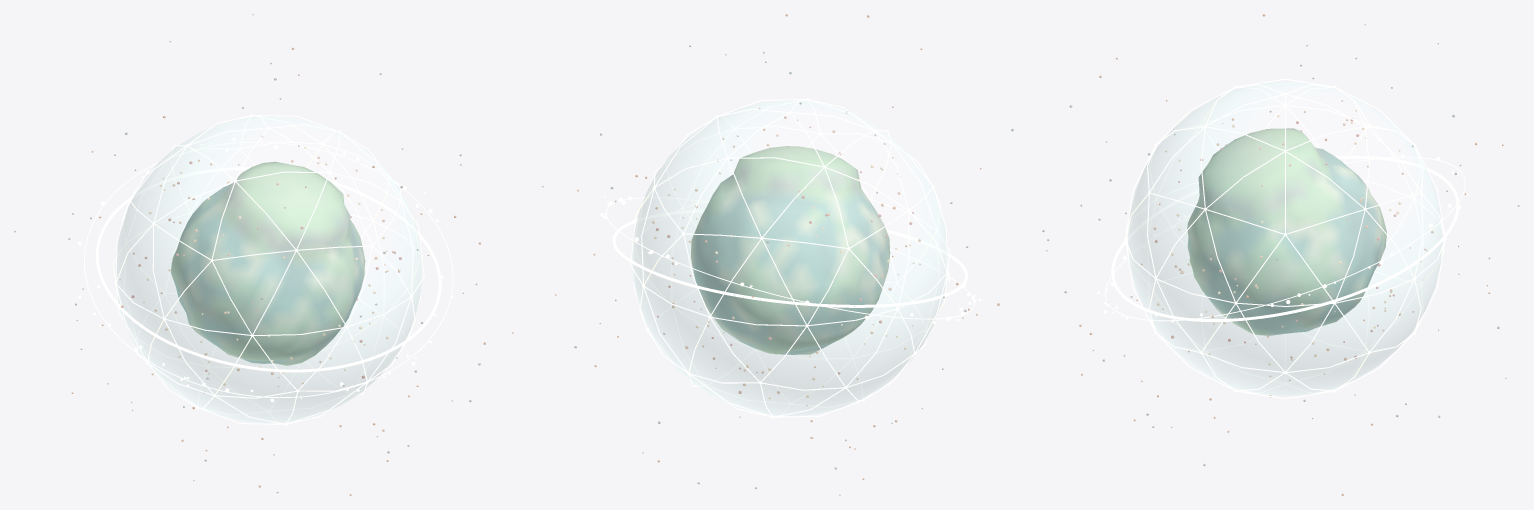
The model's file is capsule_sealed.glb.
The picture shows the model from 3 angles, left to right: view 1: azimuth 30°, elevation 25°; view 2: azimuth 150°, elevation 25°; view 3: azimuth 270°, elevation 25°; orthographic projection. The views are drawn at different scales.
Parts seen in each view (by area): view 1: Shell, CoreBody, LatticeMesh, SealBand, SealBandThin, Motes; view 2: Shell, CoreBody, LatticeMesh, SealBand, SealBandThin, Motes; view 3: Shell, CoreBody, LatticeMesh, SealBand, SealBandThin, Motes.
Part boxes in pixels (box(x1,y1,x2,y2)): Shell: box(115, 116, 421, 423); CoreBody: box(171, 161, 365, 365); LatticeMesh: box(113, 114, 424, 425); SealBand: box(95, 167, 441, 372); SealBandThin: box(78, 137, 453, 402); Motes: box(131, 135, 401, 393); Shell: box(632, 100, 947, 415); CoreBody: box(691, 146, 890, 354); LatticeMesh: box(630, 98, 950, 418); SealBand: box(612, 209, 967, 307); SealBandThin: box(600, 196, 981, 324); Motes: box(652, 116, 921, 399); Shell: box(1128, 82, 1442, 395); CoreBody: box(1187, 128, 1386, 335); LatticeMesh: box(1124, 78, 1446, 399); SealBand: box(1111, 155, 1459, 321); SealBandThin: box(1097, 154, 1468, 322); Motes: box(1155, 111, 1433, 376).
Size of the model in its own units: 3.15 by 3.1 by 3.03.
